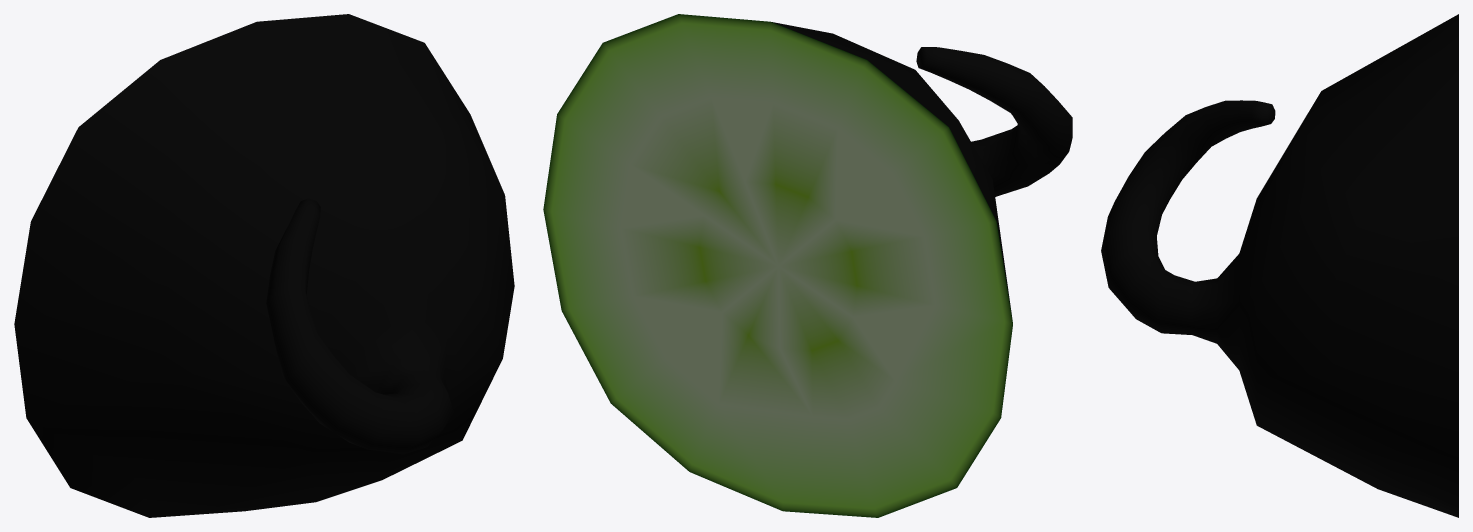
Rendered from Cucumber_Slice_01.fbx.
The picture shows the model from 3 angles, left to right: view 1: azimuth 30°, elevation 25°; view 2: azimuth 150°, elevation 25°; view 3: azimuth 270°, elevation 25°; orthographic projection. The views are drawn at different scales.
Parts seen in each view (by area): view 1: Cucumber_Slice_01; view 2: Cucumber_Slice_01; view 3: Cucumber_Slice_01.
Part boxes in pixels (box(x1,y1,x2,y2)): Cucumber_Slice_01: box(14, 14, 514, 517); Cucumber_Slice_01: box(543, 14, 1072, 517); Cucumber_Slice_01: box(1101, 14, 1458, 517).
Size of the model in its own units: 3.57 by 3.53 by 2.53.
